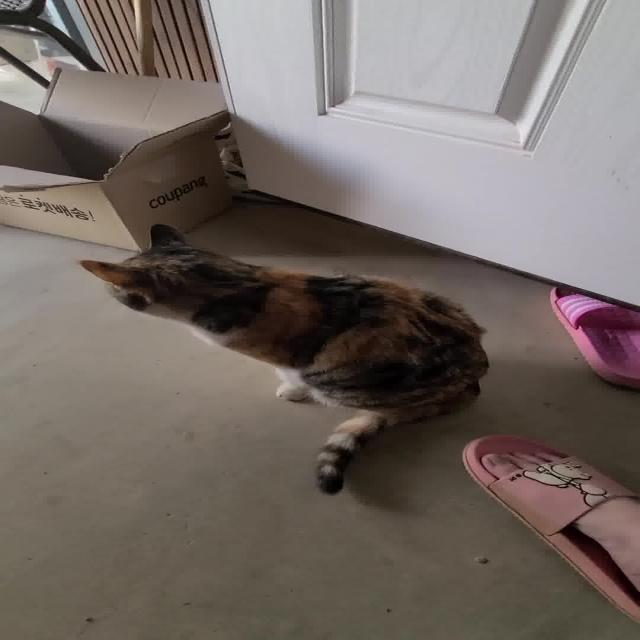cat: (75, 219, 490, 495)
